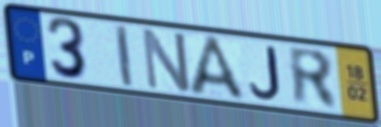3: (46, 15, 91, 83)
A: (187, 33, 250, 104)
I: (112, 22, 136, 89)
J: (248, 45, 283, 102)
N: (140, 25, 194, 95)
R: (285, 44, 342, 112)
